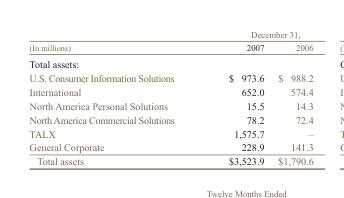table: (28, 28, 312, 166)
table column: (28, 28, 200, 166), (200, 28, 270, 166), (270, 28, 312, 166)
table column header: (28, 28, 312, 55)
table projected row header: (28, 55, 312, 70)
table row: (28, 40, 312, 55), (28, 55, 312, 70), (28, 70, 312, 84), (28, 84, 312, 98), (28, 98, 312, 112), (28, 112, 312, 126), (28, 126, 312, 140), (28, 140, 312, 153), (28, 153, 312, 166), (28, 28, 312, 40)
table spanning cell: (28, 28, 200, 55), (200, 28, 312, 40)
